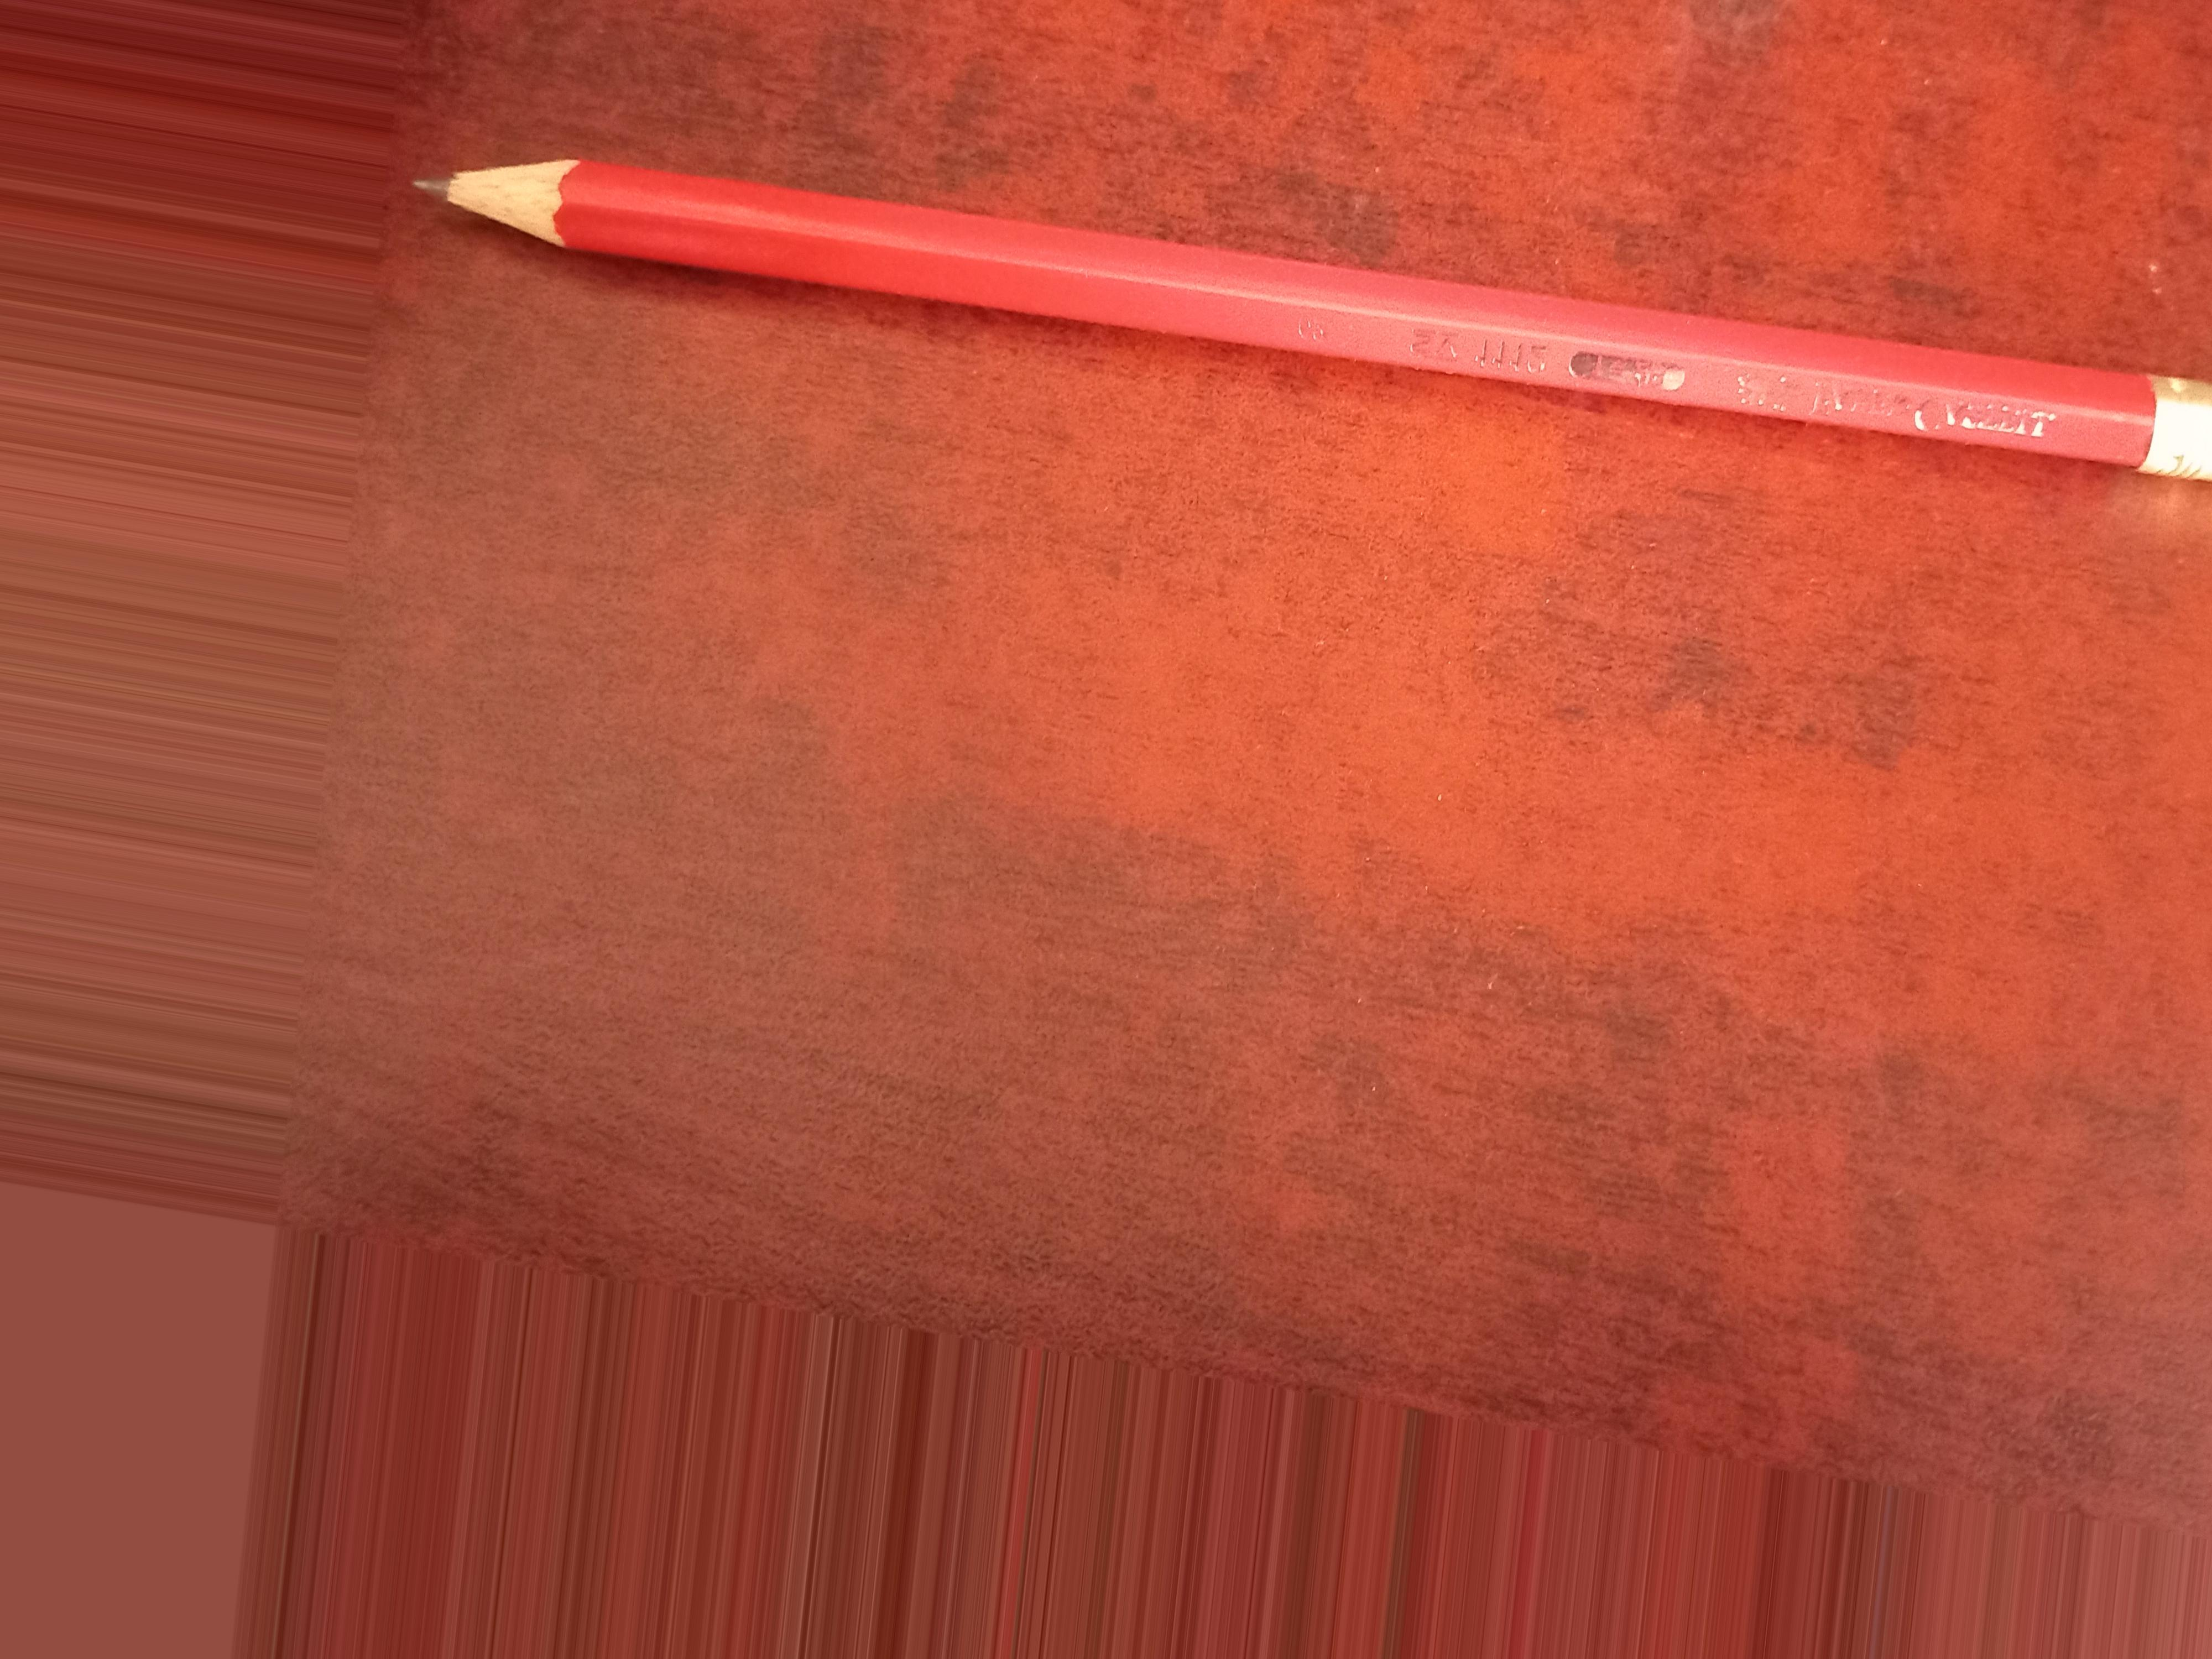pencil: (411, 108, 2212, 486)
